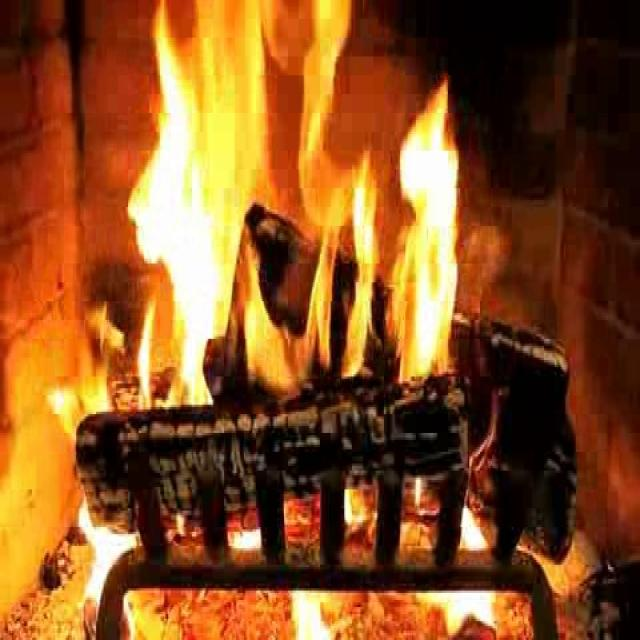fire: (120, 18, 452, 405)
